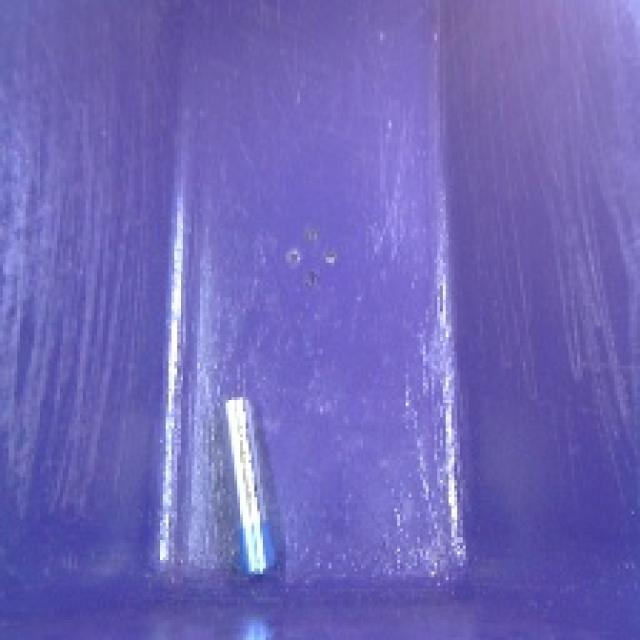battery: (215, 380, 288, 589)
